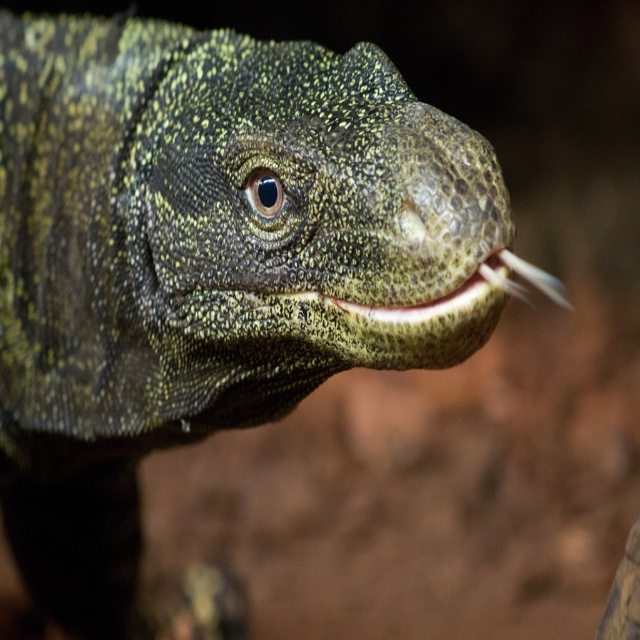Lizard: (0, 5, 576, 488)
